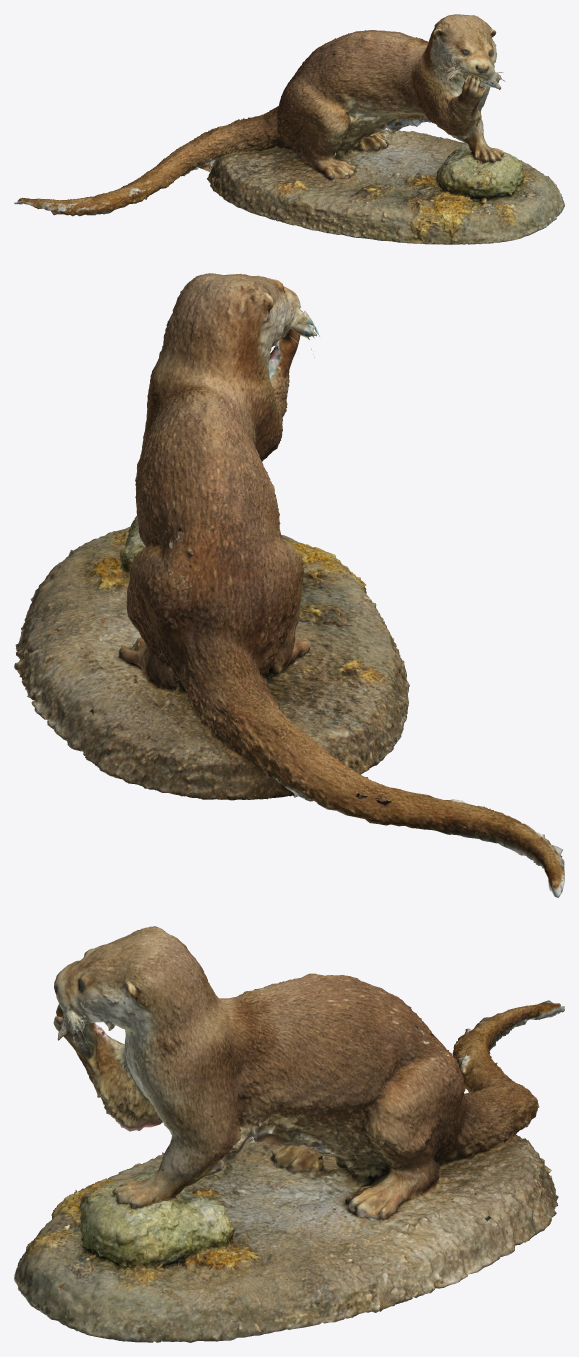
File: opt1.glb
3 renders of one model, top to bottom at view 1: azimuth 30°, elevation 25°; view 2: azimuth 150°, elevation 25°; view 3: azimuth 270°, elevation 25°, orthographic. The views are drawn at different scales.
Visible parts, largest first — view 1: NEW; view 2: NEW; view 3: NEW.
Part boxes in pixels (x1,y1,x2,y2): NEW: (14,14,564,244); NEW: (14,273,564,897); NEW: (14,926,564,1342).
Size of the model in its own units: 86.23 by 39.67 by 59.23.
Materials: 1 (1 with a texture image).
